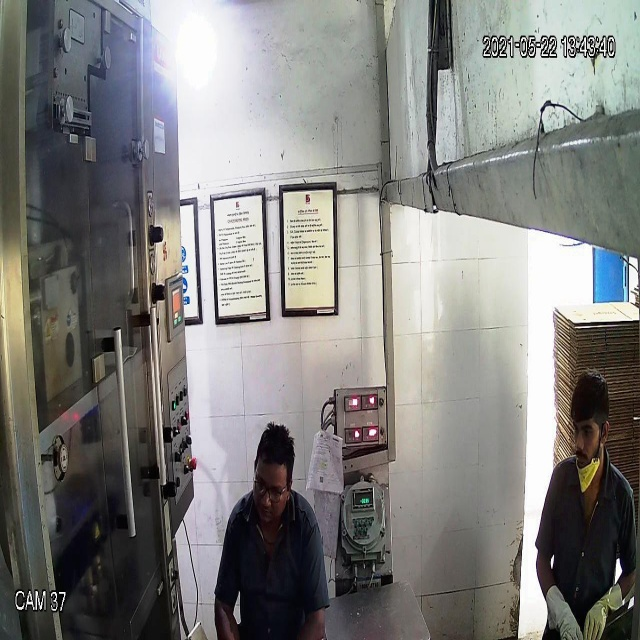Gafas: (250, 472, 287, 508)
Sin_gafas: (568, 415, 602, 445)
